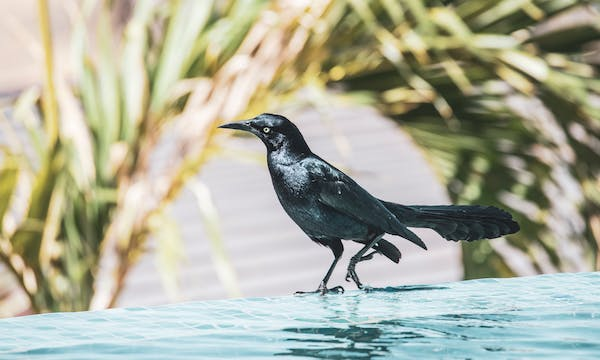Walking: (216, 92, 532, 311)
